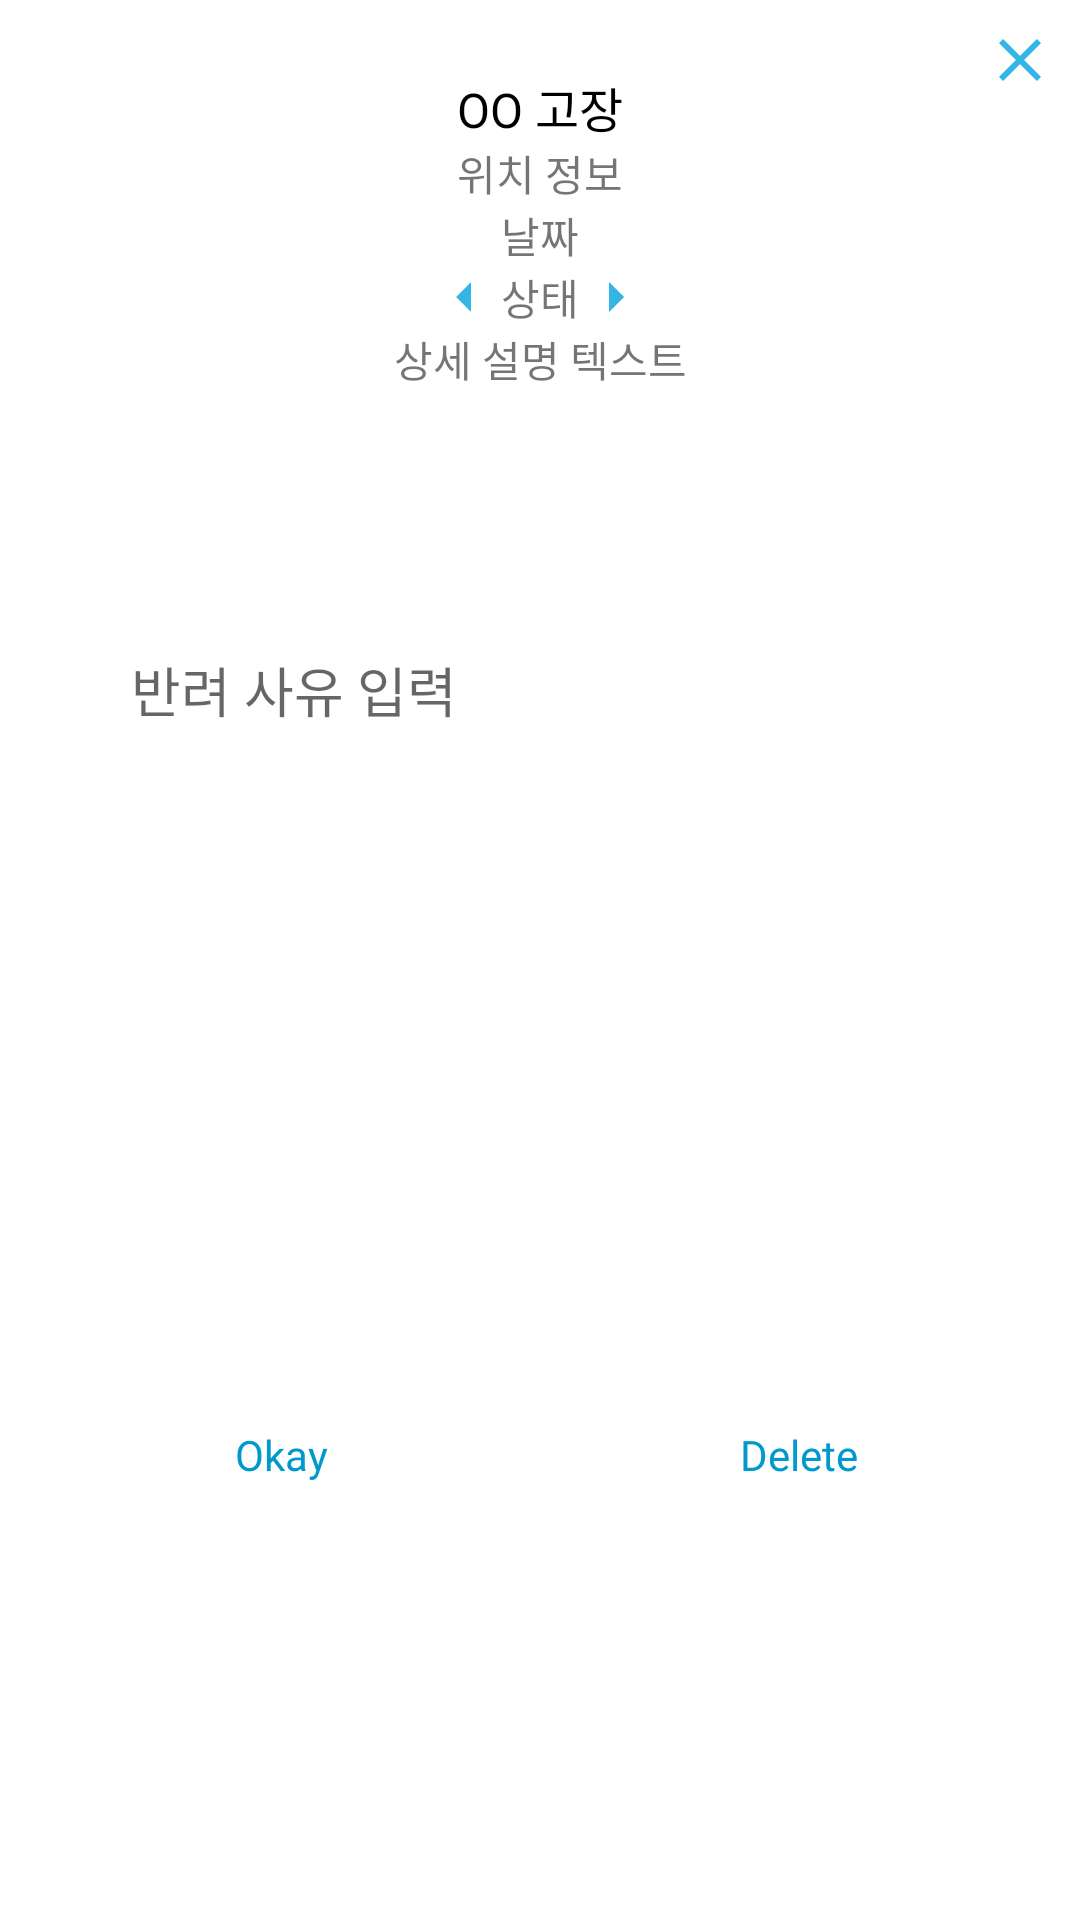

Icon click points for this 1080x1920 phone screenshot, format (x=x, y=y):
arrow left: (x=463, y=297)
arrow right: (x=616, y=297)
close: (x=1020, y=60)
